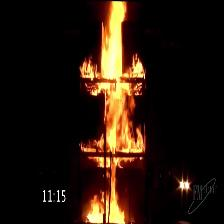fire: (99, 0, 127, 224)
